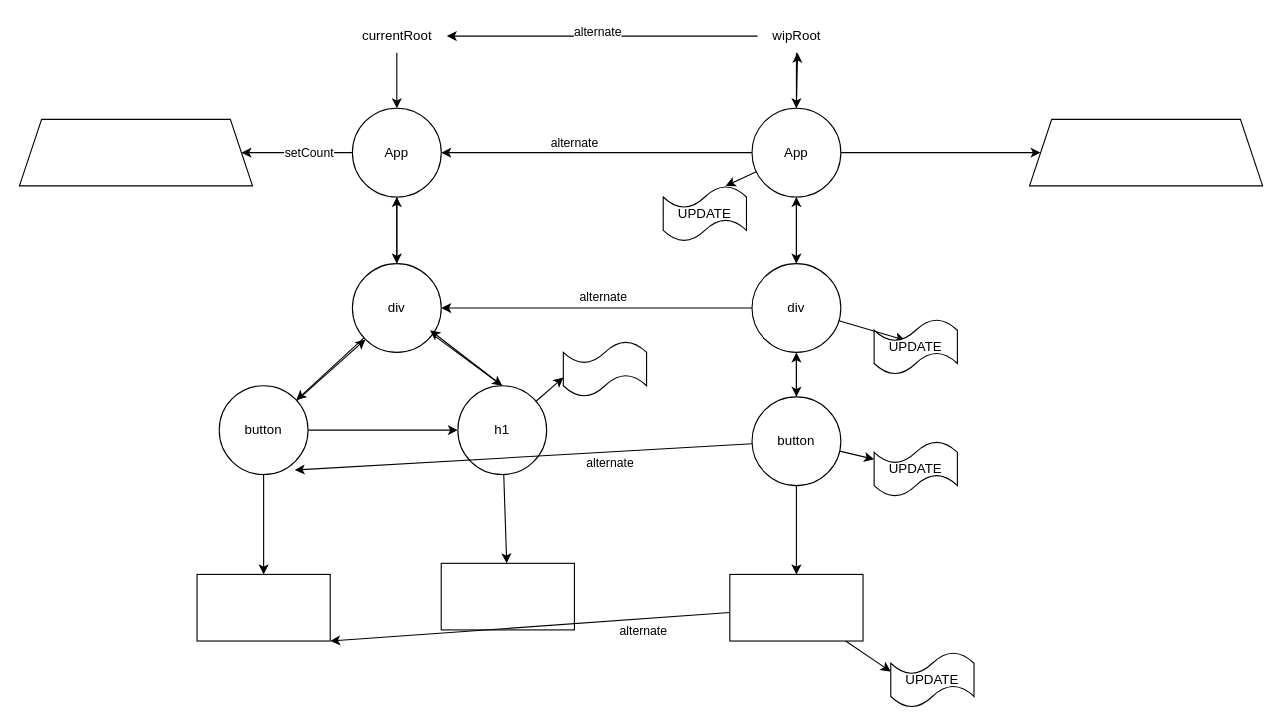
Image size: 1282x727. Some labels were removed from this diagram. The shapes that lost their labels are listed below. From the top down, each one's box as (x1, y1, x2, y2) in pixels, then its label:
(18, 118, 253, 186): hooks = [{state: 0, queue: [f]}]
(1028, 118, 1263, 186): hooks = [{state: 1, queue: []}]
(562, 340, 647, 397): DELETION
(196, 573, 330, 641): Count 0
(440, 562, 574, 630): This should be visible ehn count = 0
(729, 573, 863, 641): Count 1
